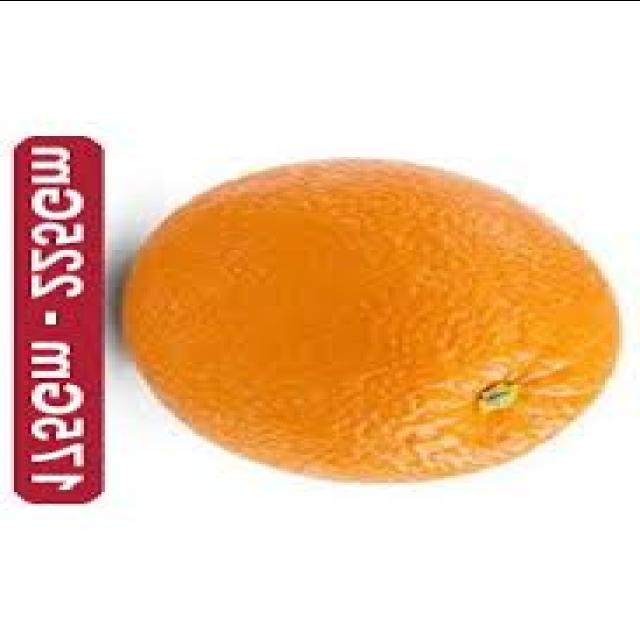orange: (116, 138, 624, 492)
